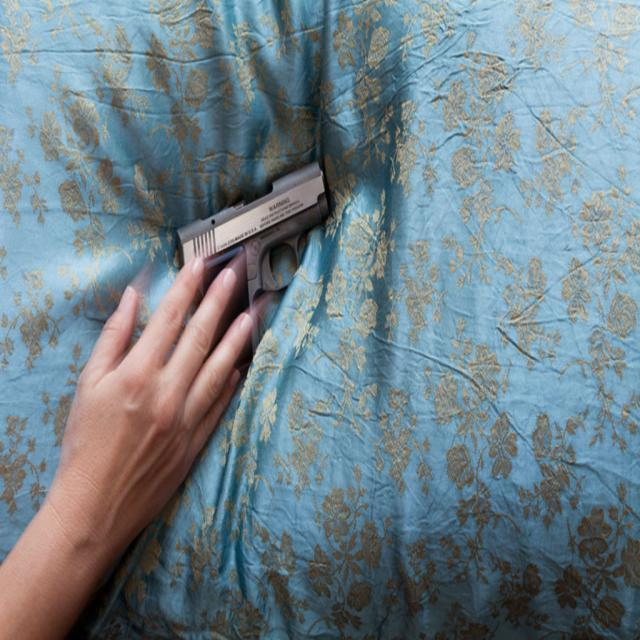Gun: (178, 162, 329, 306)
